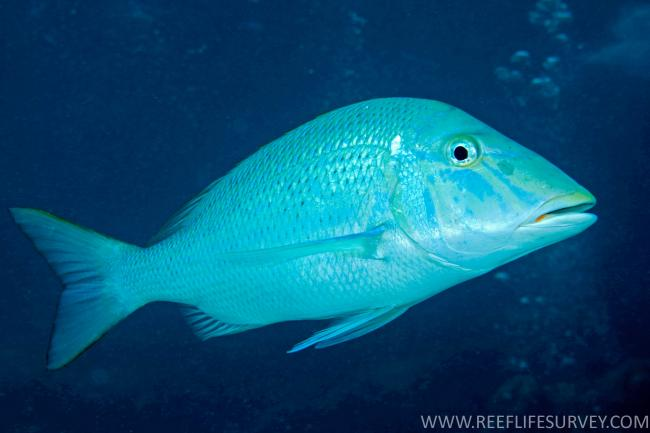fish: (9, 97, 598, 371)
